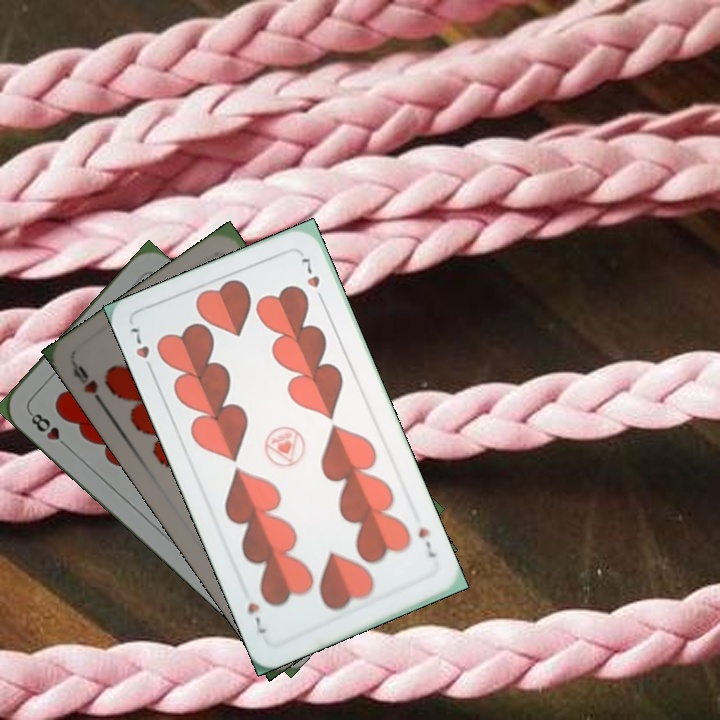H7: (126, 323, 157, 377), (414, 523, 439, 561)
H8: (25, 407, 73, 452)
H9: (68, 360, 108, 411)
